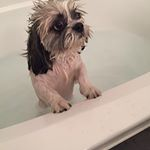puppy: (24, 1, 104, 115)
